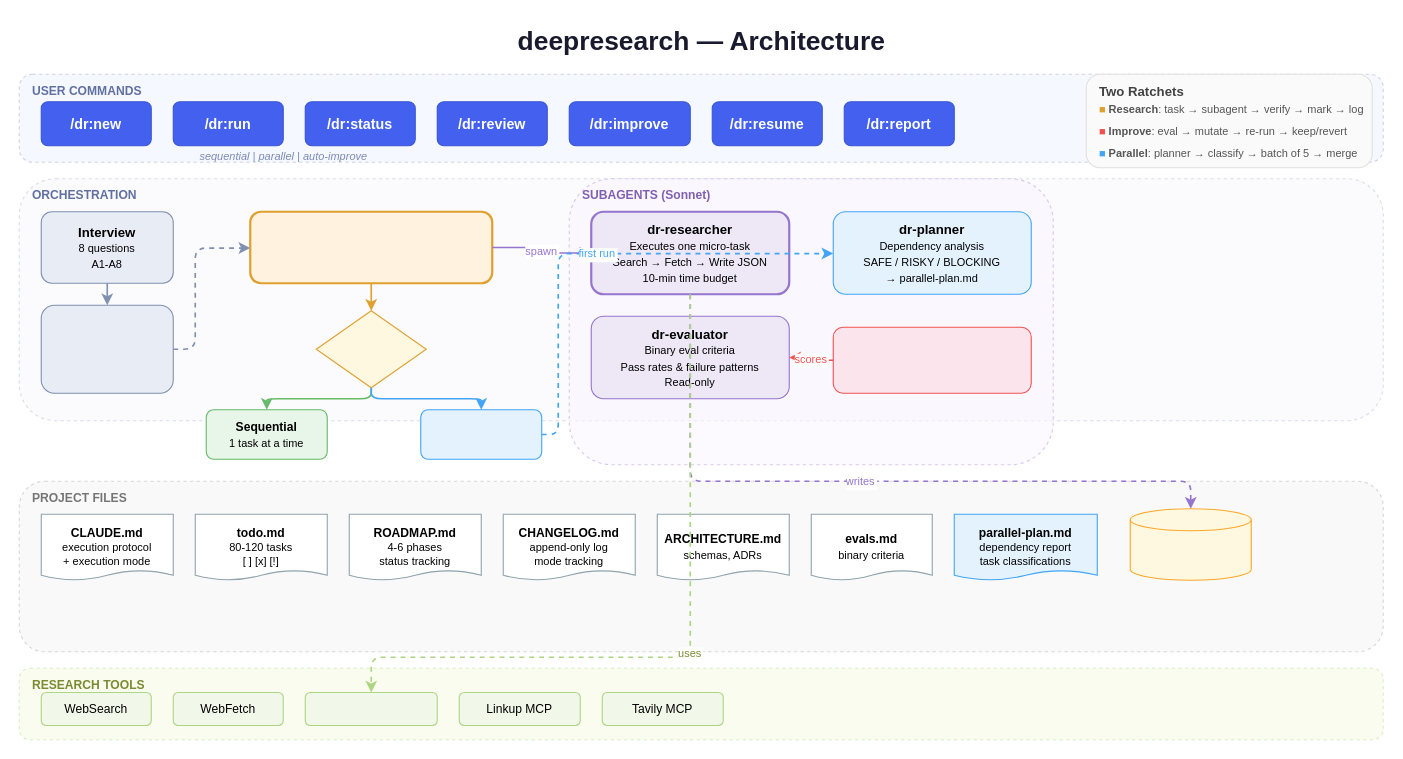
Some shapes in this 1403 by 759 pixel diagram are drawn without their labels. Each missing label, with the centre of its shape:
data/*.json research output: point (1190, 544)
Execution Engine /dr:run loop find task → spawn → verify → mark → log: point (371, 247)
Firecrawl MCP: point (370, 708)
Improve Ratchet eval → analyze → mutate → re-run → score → keep/revert: point (931, 359)
Mode Router: point (370, 349)
Parallel batches of 5: point (481, 434)
Scaffold 11 files CLAUDE.md, todo.md ROADMAP, schemas: point (106, 348)
